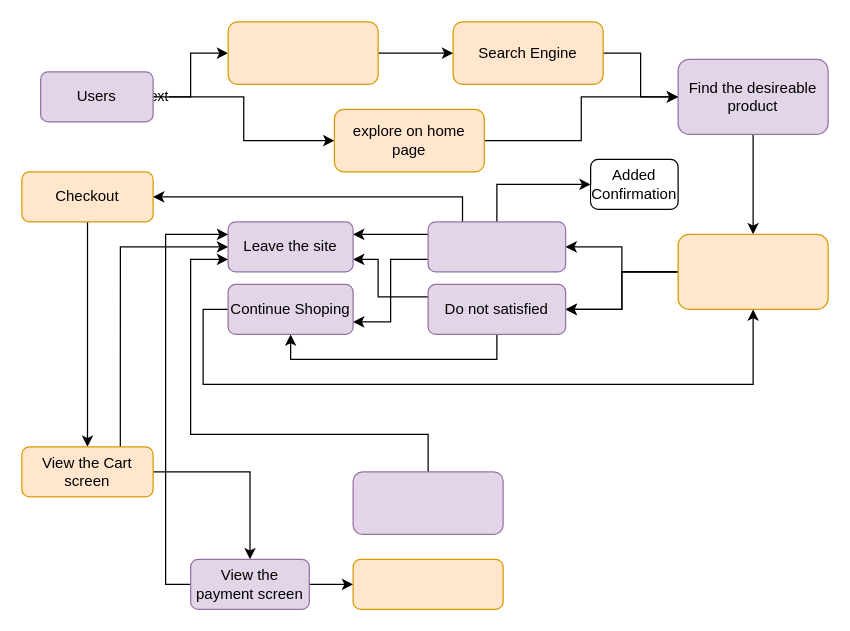
Image size: 850x631. Some labels were removed from this diagram. The box of each missing label's shape, as (x1, y1, x2, y2) in pixels:
Add to Chart: (427, 221, 566, 272)
Have Keywork in mind: (227, 21, 378, 84)
Input payment Information: (352, 558, 503, 609)
Looking on specific product: (677, 233, 828, 309)
Receive order confirmation and receive email: (352, 471, 503, 534)
